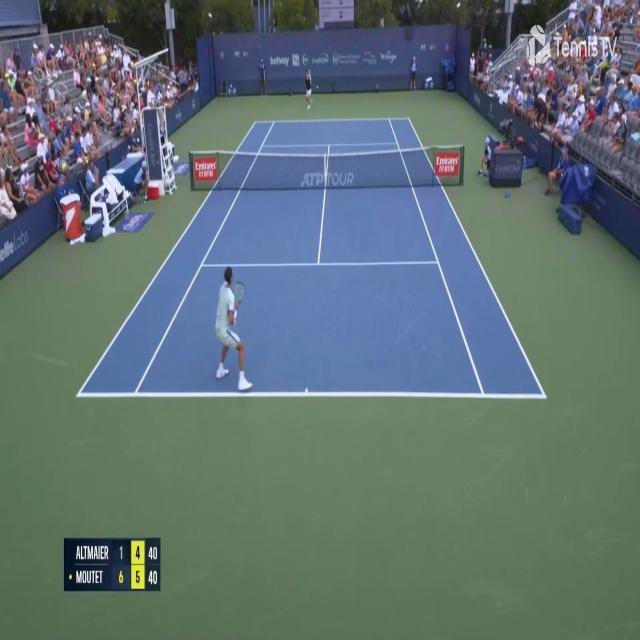tennis-player: (214, 260, 255, 397), (304, 68, 320, 109)
